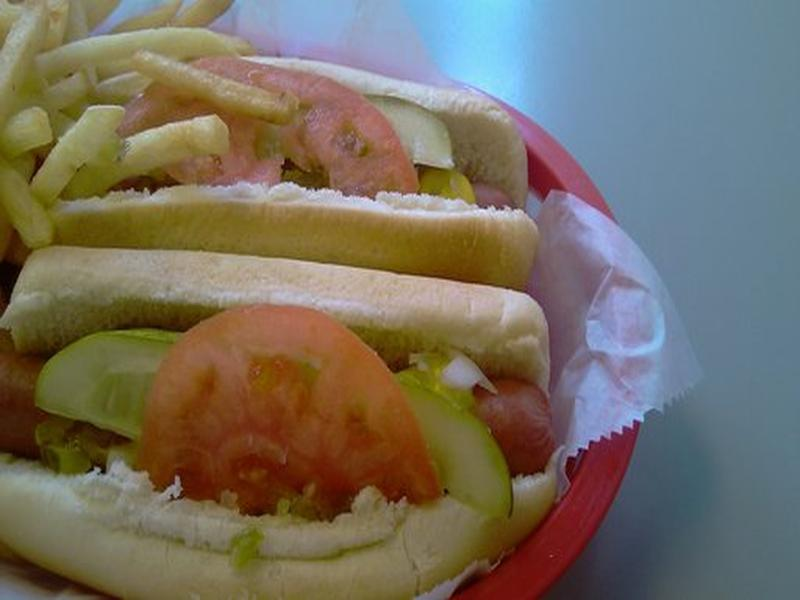french_fries: (9, 1, 715, 551)
